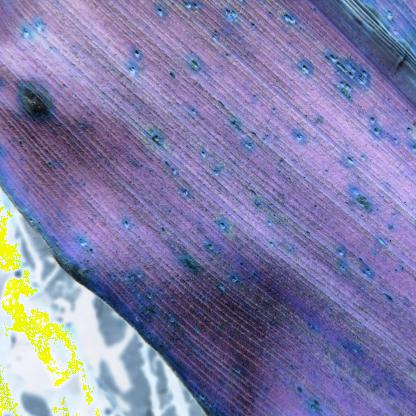corn rust leaf: (0, 1, 414, 416)
